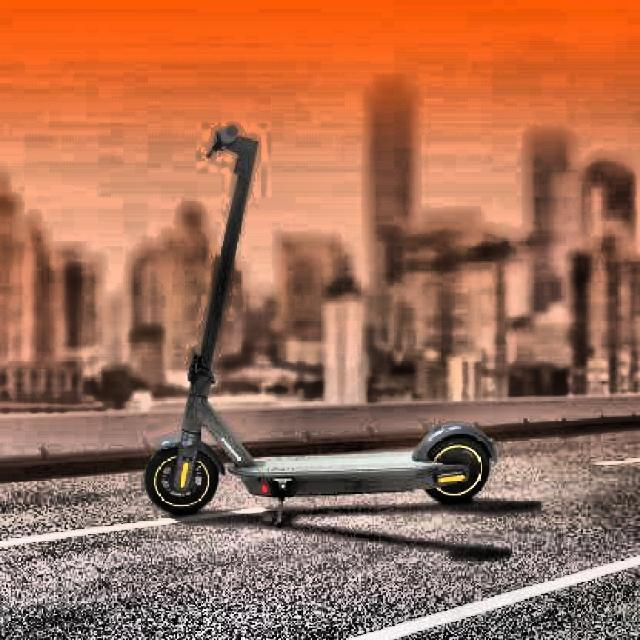bike: (142, 123, 500, 527)
car: (141, 124, 499, 528)
